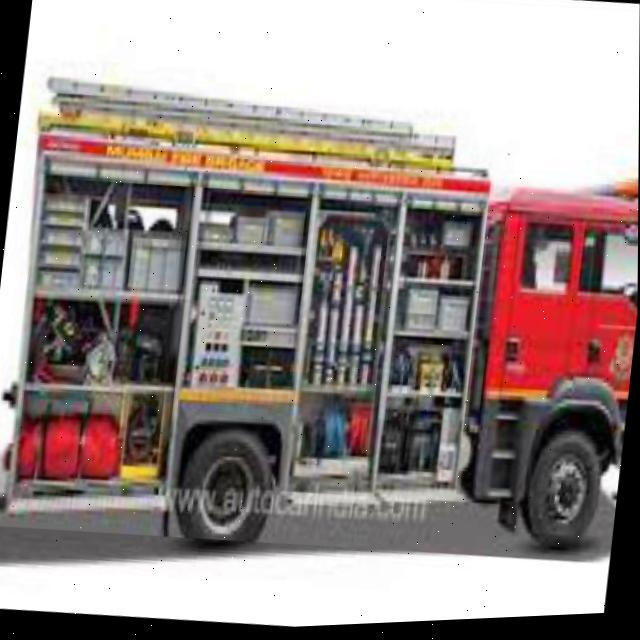Fire Truck: (0, 35, 640, 590)
